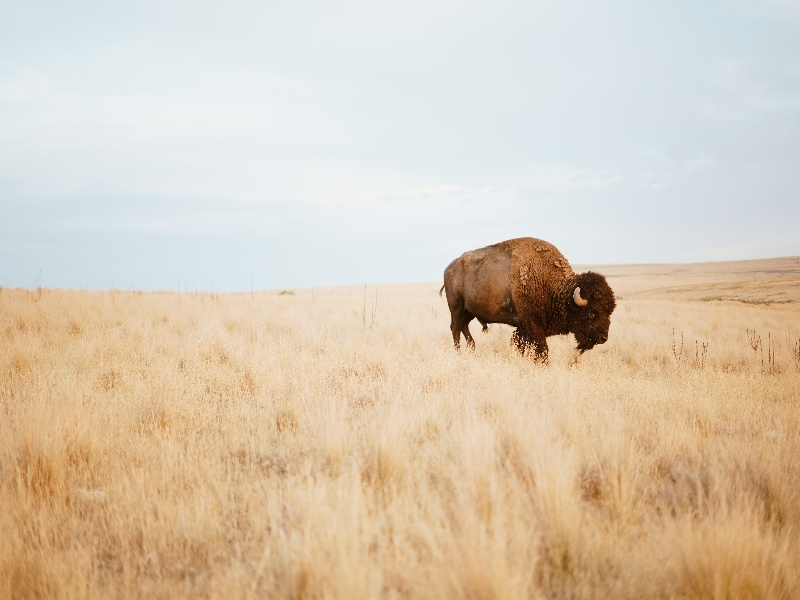buffalo: (437, 234, 625, 370)
